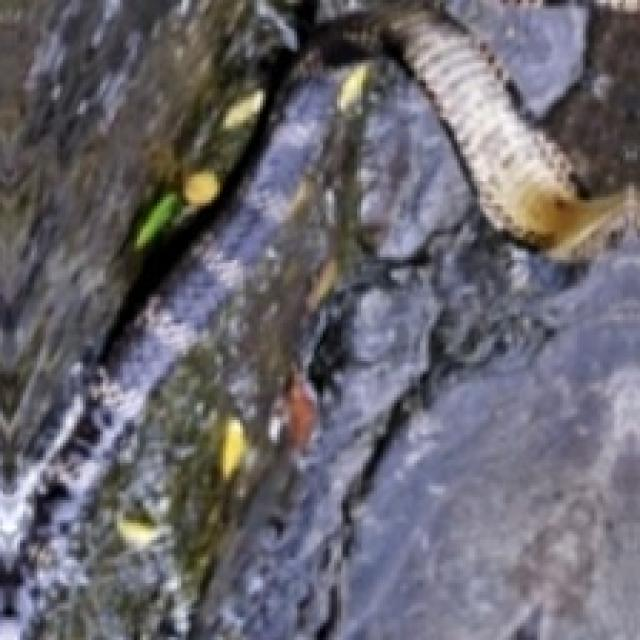king cobra: (294, 3, 637, 260)
